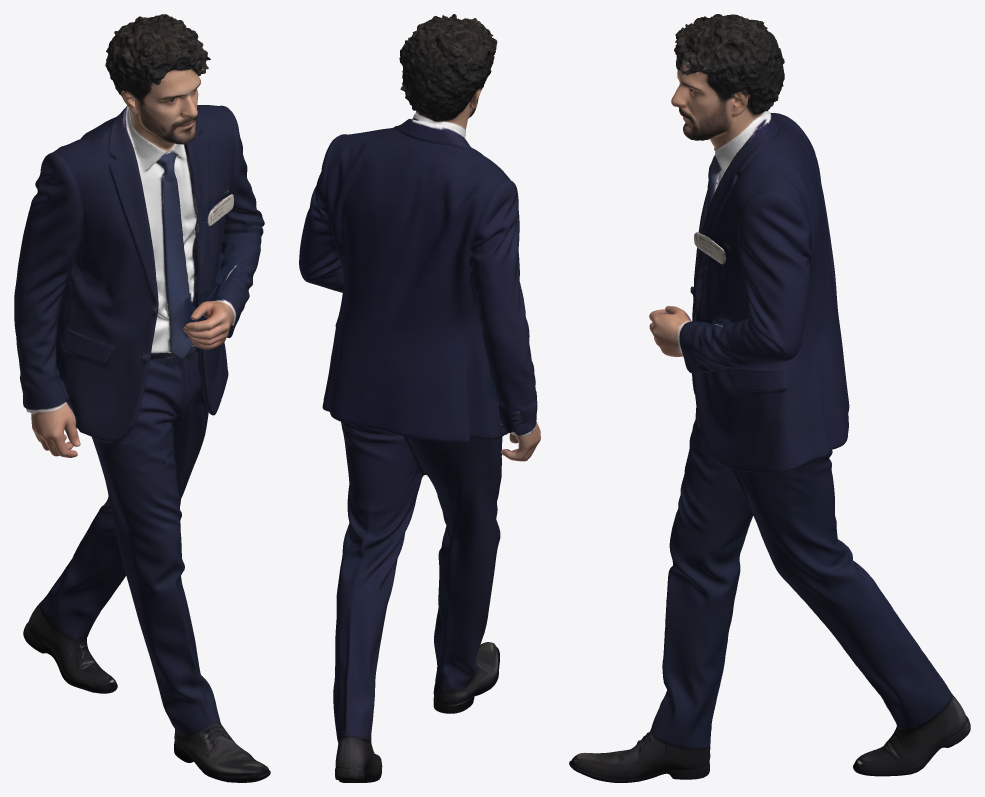
The model's file is executive_in_a_navy_suit.glb.
3 views of the same model, side by side, from view 1: azimuth 30°, elevation 25°; view 2: azimuth 150°, elevation 25°; view 3: azimuth 270°, elevation 25° (orthographic). The views are drawn at different scales.
Parts seen in each view (by area): view 1: Object_6, Object_7, Object_5; view 2: Object_6, Object_5, Object_7; view 3: Object_6, Object_5, Object_7.
Boxes of the visible parts, x1,y1,x2,y2 form: Object_6: (14,14,263,693); Object_7: (104,23,249,762); Object_5: (14,15,270,782); Object_6: (300,16,540,782); Object_5: (299,18,540,712); Object_7: (421,14,501,713); Object_6: (685,14,970,776); Object_5: (569,20,867,782); Object_7: (647,16,727,779).
Size of the model in its own units: 0.6587 by 1.9 by 0.9249.
Materials: 1 (1 with a texture image).
